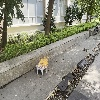fire: (39, 55, 49, 68)
